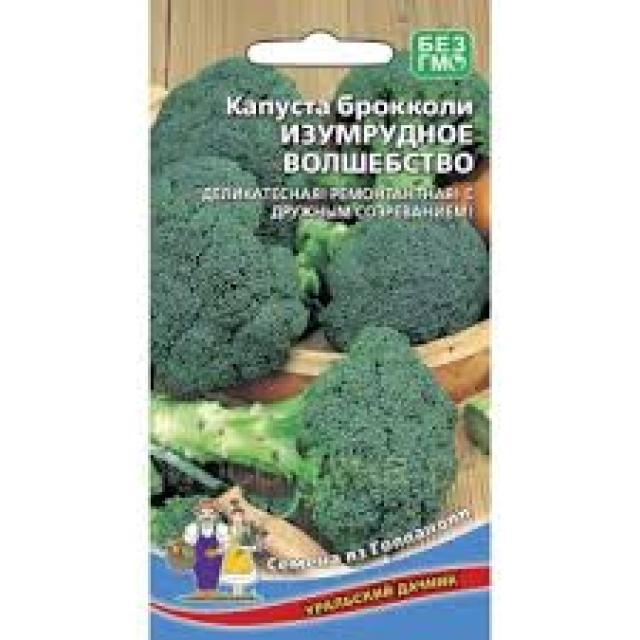broccoli: (230, 320, 490, 554), (146, 22, 349, 246), (121, 159, 297, 361), (318, 188, 506, 358), (337, 34, 510, 205)
